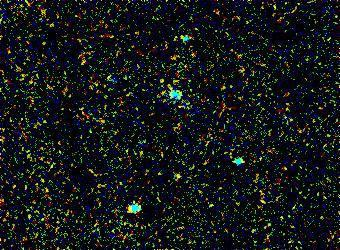star: (37, 12, 67, 42)
